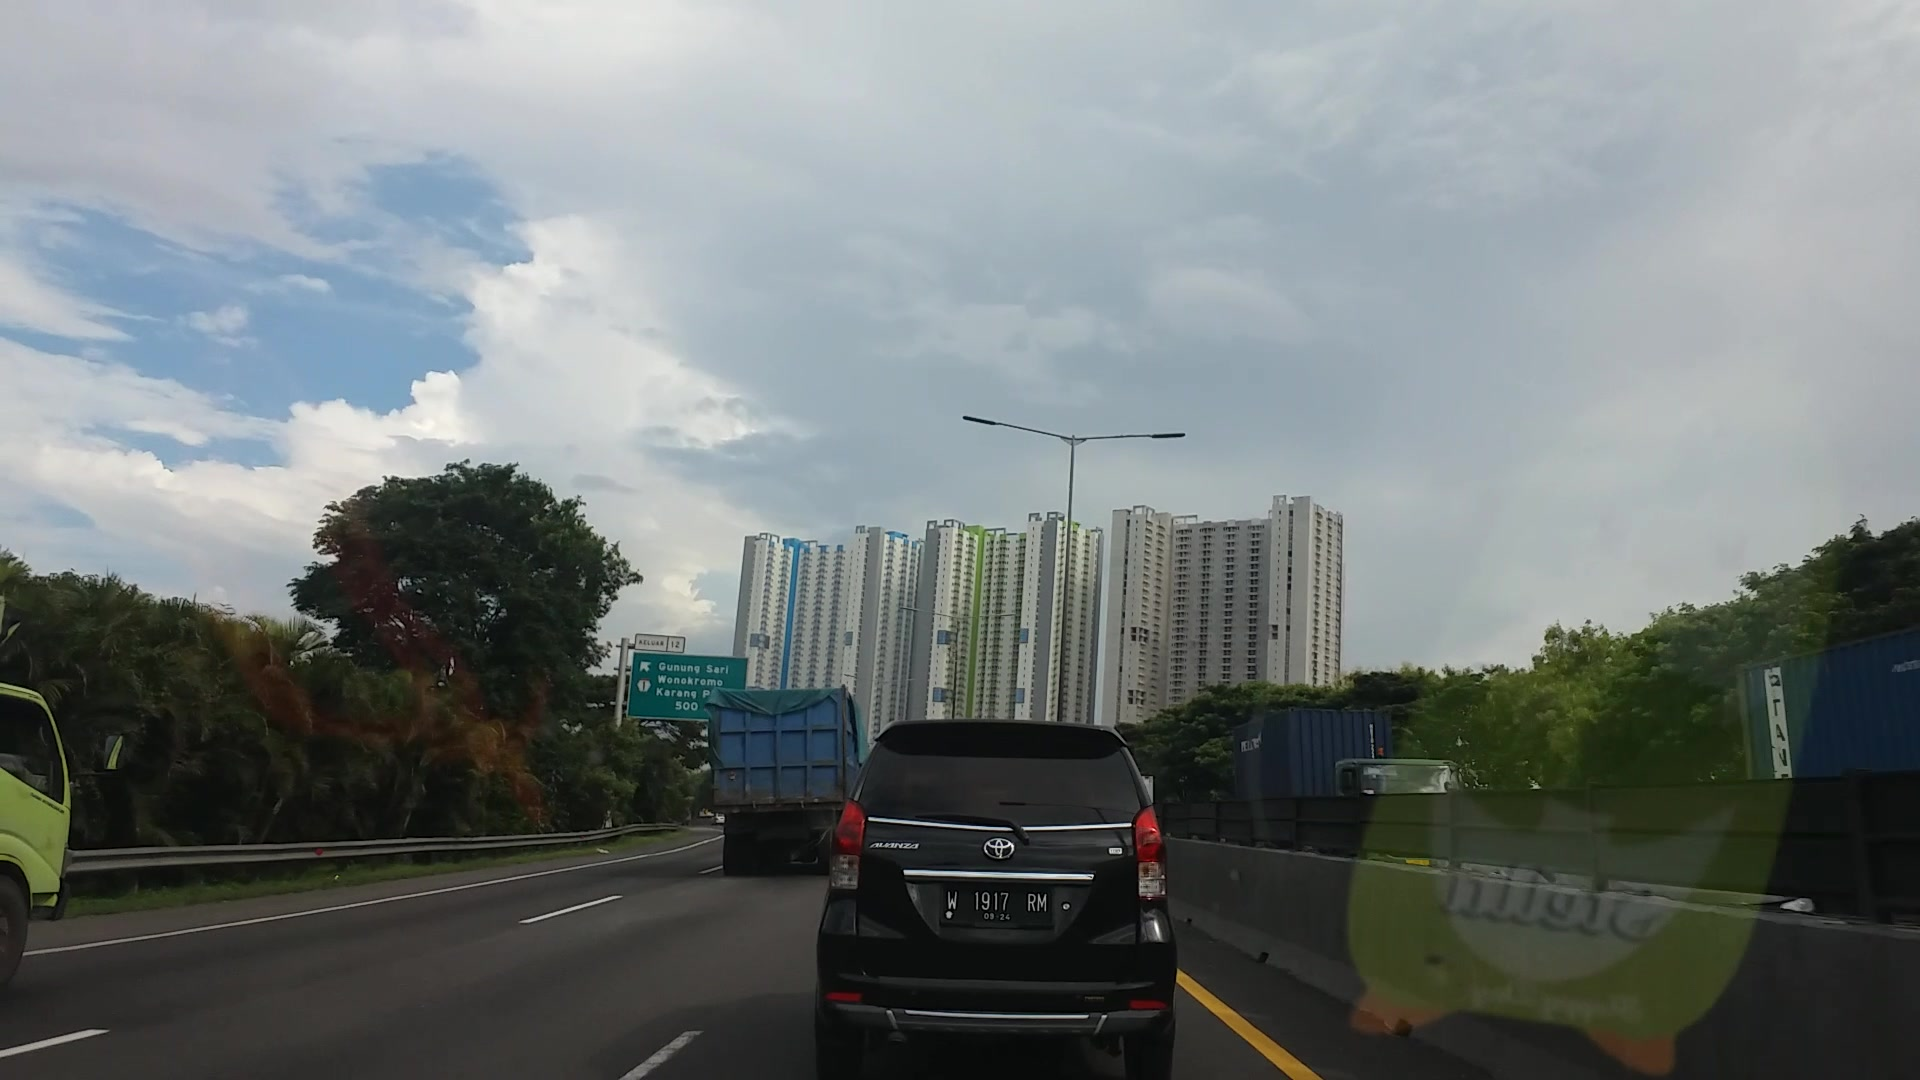plate_positive: (942, 882, 1050, 920)
